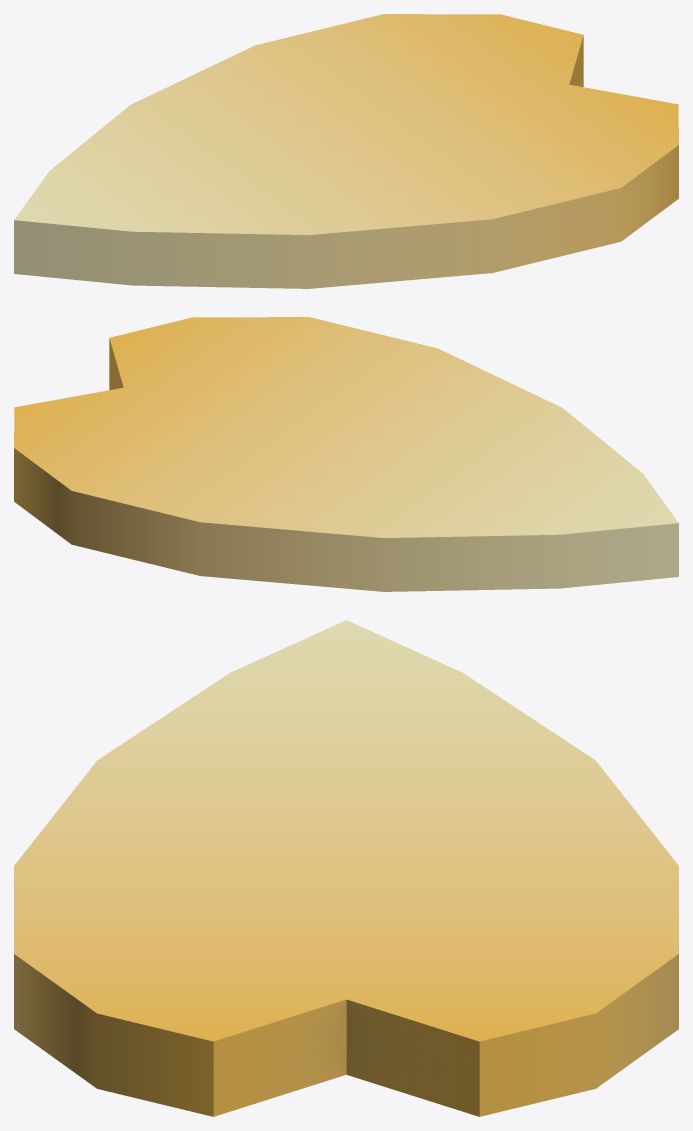
File: petal_gold.fbx
The picture shows the model from 3 angles, top to bottom: view 1: azimuth 30°, elevation 25°; view 2: azimuth 150°, elevation 25°; view 3: azimuth 270°, elevation 25°; orthographic projection. The views are drawn at different scales.
Visible parts, largest first — view 1: petal_gold; view 2: petal_gold; view 3: petal_gold.
Part boxes in pixels (left/top/right/bottom): petal_gold: left=14, top=14, right=678, bottom=288; petal_gold: left=14, top=317, right=678, bottom=591; petal_gold: left=14, top=620, right=678, bottom=1116.
Bounding box in the file's own units: 120 × 10 × 80.
1 material, 1 textured.
